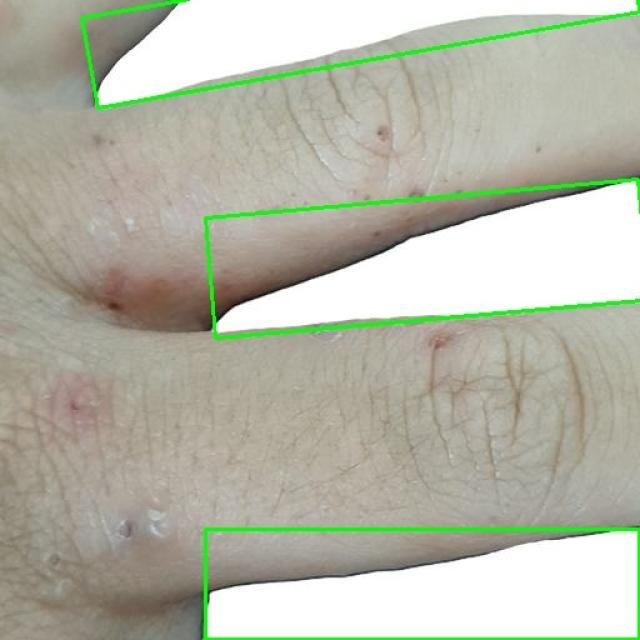Scabies: (205, 180, 640, 339), (82, 0, 640, 108), (205, 529, 639, 639)
